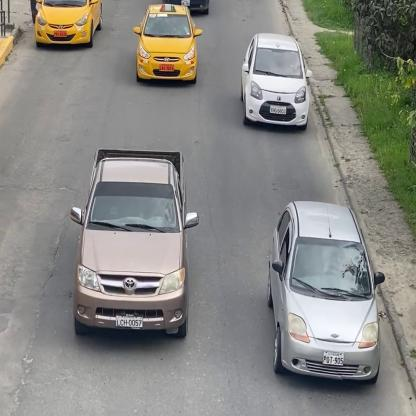Placa: (115, 314, 144, 332), (322, 349, 346, 367), (269, 106, 287, 114), (158, 64, 174, 72)
